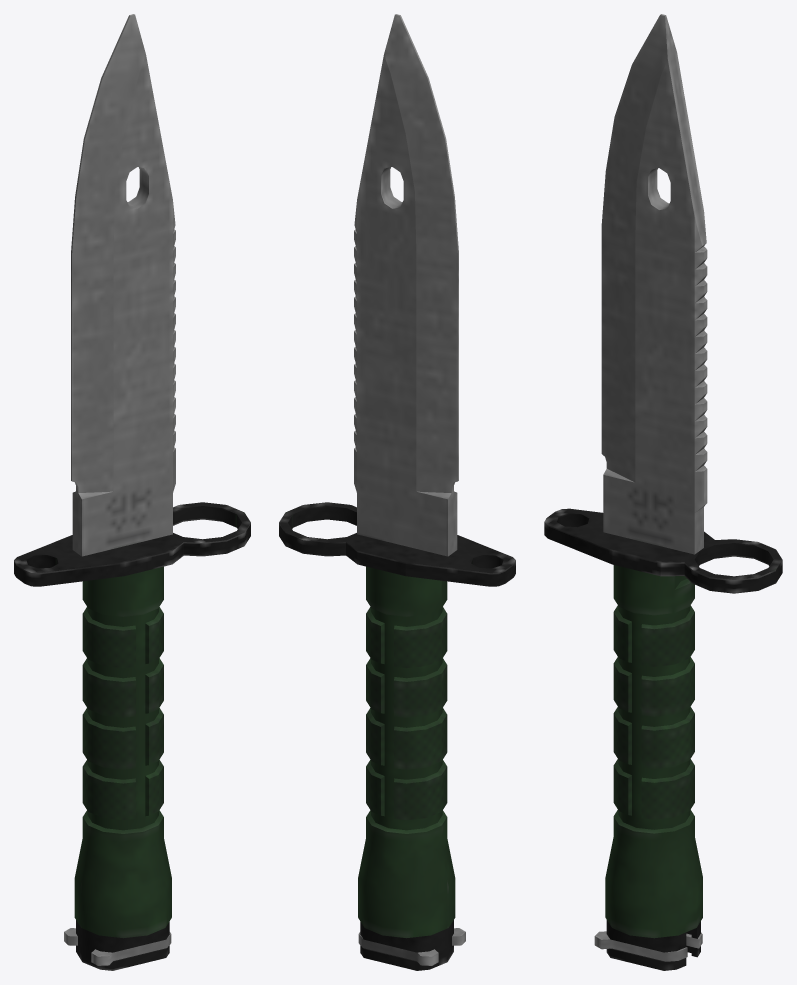
File: ckm2.obj
3 renders of one model, left to right at view 1: azimuth 30°, elevation 25°; view 2: azimuth 150°, elevation 25°; view 3: azimuth 330°, elevation 25°, orthographic.
Visible parts, largest first — view 1: Combat_knife_model2; view 2: Combat_knife_model2; view 3: Combat_knife_model2.
Boxes of the visible parts, x1,y1,x2,y2 form: Combat_knife_model2: (14,14,250,970); Combat_knife_model2: (279,14,515,970); Combat_knife_model2: (544,14,782,970).
Bounding box in the file's own units: 0.1629 × 0.6491 × 0.0612.
